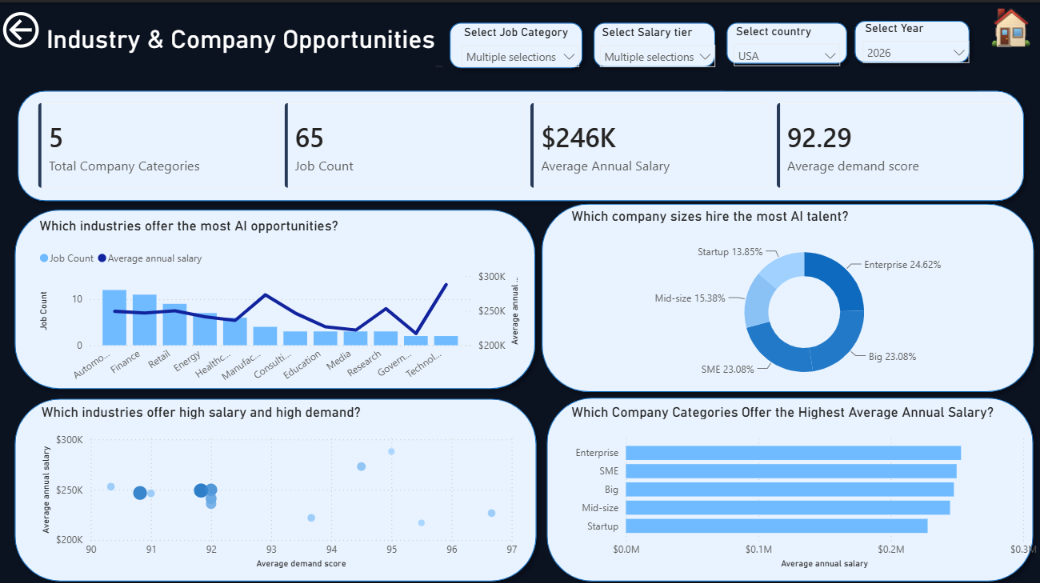

What the dashboard file says about the page in this screenshot:
{"tool":"powerbi","page":{"name":"Industry & Company Opportunities","canvas":[1280,720],"ordinal":4},"visuals":[{"type":"group","id":"g1","title":"Background","box":[11.1,13.4,1268.7,706.1],"z":0},{"type":"shape","box":[14.7,99.4,1252.8,153.4],"z":0,"group":"g1"},{"type":"shape","box":[11.1,245.1,656.7,237.9],"z":1000,"group":"g1"},{"type":"lineStackedColumnComboChart","title":"Which industries offer the most AI opportunities?","fields":{"Category":["AI_data_jobs.industry"],"Y":["CountNonNull(AI_data_jobs.job_id)"],"Y2":["Avg(AI_data_jobs_experience.annual_salary_usd)"]},"box":[45.9,264.3,599.7,212.9],"z":1000},{"type":"donutChart","title":"Which company sizes hire the most AI talent?","fields":{"Category":["AI_data_jobs_company.company_category"],"Y":["CountNonNull(AI_data_jobs_company.job_id)"]},"box":[698.4,251.8,581.6,226.8],"z":2000},{"type":"shape","box":[11.6,477.5,658.1,242.1],"z":2000,"group":"g1"},{"type":"shape","box":[663.5,476.1,615,243.5],"z":3000,"group":"g1"},{"type":"scatterChart","title":"Which industries offer high salary and high demand?","fields":{"X":["AI_data_jobs.demand_score"],"Y":["Avg(AI_data_jobs_experience.annual_salary_usd)"],"Series":["AI_data_jobs_company.industry"],"Size":["CountNonNull(AI_data_jobs_company.job_id)"]},"box":[47.3,492.5,594.1,207.3],"z":3000},{"type":"shape","box":[657.9,238.1,621.9,249],"z":4000,"group":"g1"},{"type":"clusteredBarChart","title":"Which Company Categories Offer the Highest Average Annual Salary?","fields":{"Category":["AI_data_jobs_company.company_category"],"Y":["Avg(AI_data_jobs_company.annual_salary_usd)"]},"box":[698.4,492.5,581.6,207.3],"z":4000},{"type":"shape","box":[545.2,15.5,180.9,73.7],"z":5000,"group":"g1"},{"type":"cardVisual","fields":{"Data":["Count(AI_data_jobs_company.company_category)","CountNonNull(AI_data_jobs_company.job_id)","Avg(AI_data_jobs_company.annual_salary_usd)","Avg(AI_data_jobs.demand_score)"]},"box":[27.8,97.4,1252.8,153.4],"z":5000},{"type":"shape","box":[721.9,16.2,167,72.3],"z":6000,"group":"g1"},{"type":"textbox","title":" Industry & Company Opportunities","box":[45.4,22.1,504.3,61.4],"z":6000},{"type":"shape","box":[884.7,16.2,165.6,68.2],"z":7000,"group":"g1"},{"type":"slicer","fields":{"Values":["AI_data_jobs_company.job_category"]},"box":[557.9,23.7,164.4,61.4],"z":7000},{"type":"shape","box":[1041.9,13.4,158.6,69.6],"z":8000,"group":"g1"},{"type":"slicer","fields":{"Values":["AI_data_jobs_company.salary_tier"]},"box":[727.7,23.7,162,61.4],"z":8000},{"type":"slicer","fields":{"Values":["AI_data_jobs.posting_year"]},"box":[1050.4,18.1,150.9,61.4],"z":9000},{"type":"slicer","fields":{"Values":["AI_data_jobs.country"]},"box":[891.8,22.3,150.9,61.4],"z":10000},{"type":"image","box":[1217.2,0,50.3,61.4],"z":11000},{"type":"actionButton","box":[0,6.1,60.1,55.2],"z":12000}]}

Visuals, with their boxes in screenshot pixels (x1, y1, x2, y2), scaled from the page's 1280x720 canvas onto the 1040x583 screenshot:
"Background" group: {"x1": 9, "y1": 11, "x2": 1039, "y2": 582}
shape: {"x1": 12, "y1": 80, "x2": 1030, "y2": 205}
shape: {"x1": 9, "y1": 198, "x2": 543, "y2": 391}
"Which industries offer the most AI opportunities?" lineStackedColumnComboChart: {"x1": 37, "y1": 214, "x2": 525, "y2": 386}
"Which company sizes hire the most AI talent?" donutChart: {"x1": 567, "y1": 204, "x2": 1039, "y2": 388}
shape: {"x1": 9, "y1": 387, "x2": 544, "y2": 582}
shape: {"x1": 539, "y1": 386, "x2": 1039, "y2": 582}
"Which industries offer high salary and high demand?" scatterChart: {"x1": 38, "y1": 399, "x2": 521, "y2": 567}
shape: {"x1": 535, "y1": 193, "x2": 1039, "y2": 394}
"Which Company Categories Offer the Highest Average Annual Salary?" clusteredBarChart: {"x1": 567, "y1": 399, "x2": 1039, "y2": 567}
shape: {"x1": 443, "y1": 13, "x2": 590, "y2": 72}
cardVisual - Count(AI_data_jobs_company.company_category) x CountNonNull(AI_data_jobs_company.job_id): {"x1": 23, "y1": 79, "x2": 1039, "y2": 203}
shape: {"x1": 587, "y1": 13, "x2": 722, "y2": 72}
" Industry & Company Opportunities" textbox: {"x1": 37, "y1": 18, "x2": 447, "y2": 68}
shape: {"x1": 719, "y1": 13, "x2": 853, "y2": 68}
slicer - AI_data_jobs_company.job_category: {"x1": 453, "y1": 19, "x2": 587, "y2": 69}
shape: {"x1": 847, "y1": 11, "x2": 975, "y2": 67}
slicer - AI_data_jobs_company.salary_tier: {"x1": 591, "y1": 19, "x2": 723, "y2": 69}
slicer - AI_data_jobs.posting_year: {"x1": 853, "y1": 15, "x2": 976, "y2": 64}
slicer - AI_data_jobs.country: {"x1": 725, "y1": 18, "x2": 847, "y2": 68}
image: {"x1": 989, "y1": 0, "x2": 1030, "y2": 50}
actionButton: {"x1": 0, "y1": 5, "x2": 49, "y2": 50}
